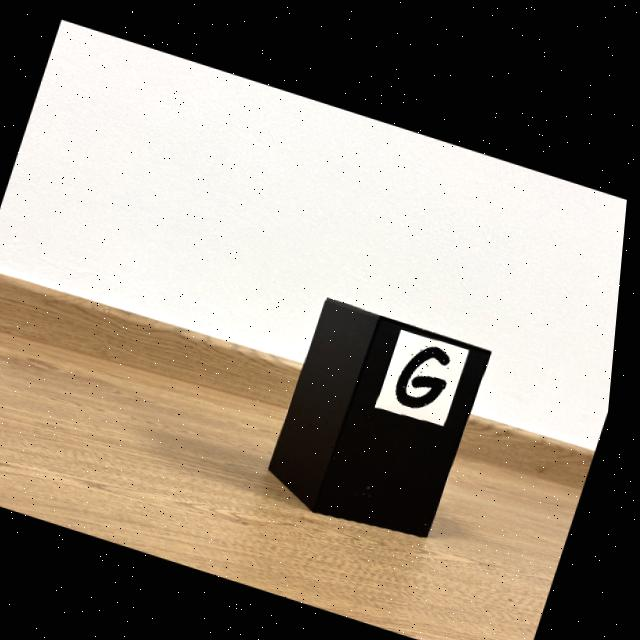G: (402, 339, 455, 400)
